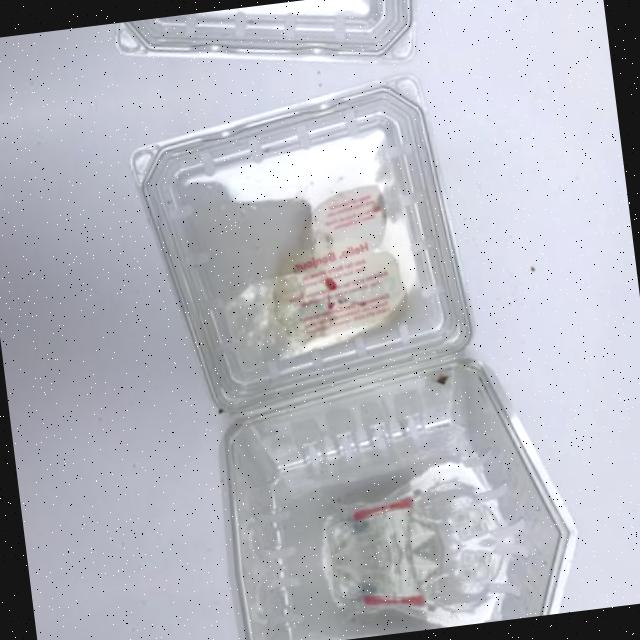Plastic: (112, 60, 585, 580), (169, 529, 594, 640), (101, 0, 524, 93)
